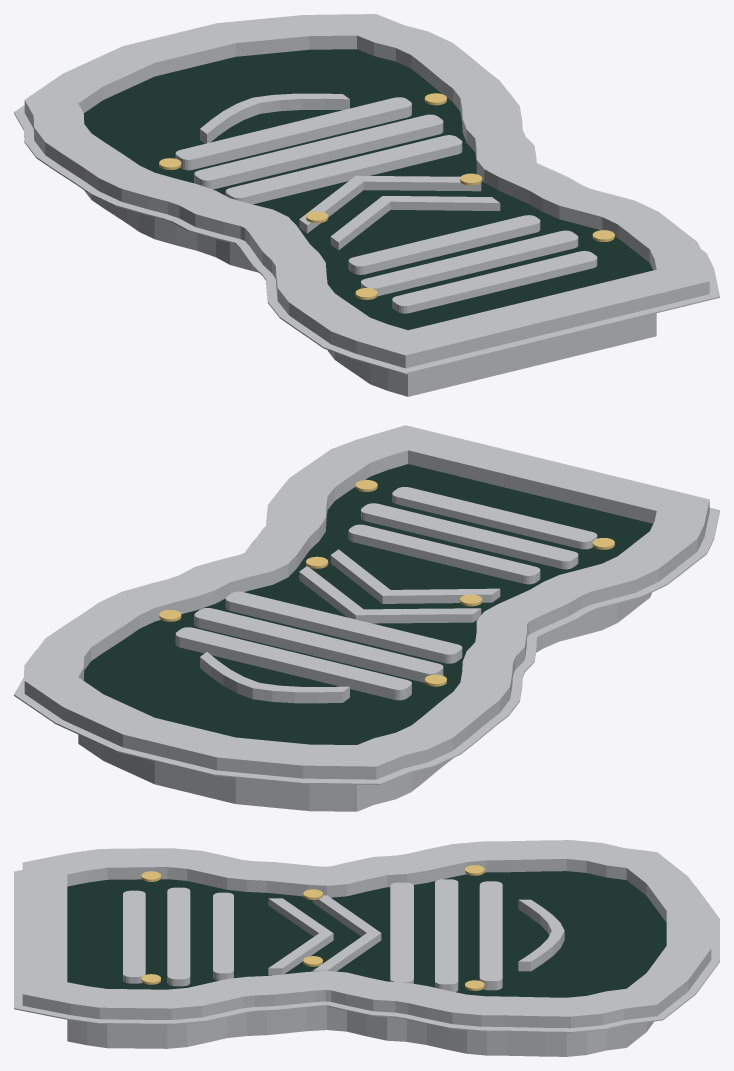
The model's file is five_zones.glb.
The picture shows the model from 3 angles, top to bottom: view 1: azimuth 30°, elevation 25°; view 2: azimuth 150°, elevation 25°; view 3: azimuth 270°, elevation 25°; orthographic projection. The views are drawn at different scales.
Parts seen in each view (by area): view 1: FZ_Body, FZ_Field, FZ_Pin0_0; view 2: FZ_Body, FZ_Field, FZ_Pin0_0; view 3: FZ_Body, FZ_Field, FZ_Pin0_0.
Part boxes in pixels (x1,y1,x2,y2): FZ_Body: [14, 14, 719, 396]; FZ_Field: [83, 49, 653, 330]; FZ_Pin0_0: [159, 93, 614, 299]; FZ_Body: [14, 425, 719, 811]; FZ_Field: [83, 464, 652, 744]; FZ_Pin0_0: [159, 480, 614, 686]; FZ_Body: [14, 840, 719, 1056]; FZ_Field: [67, 871, 666, 997]; FZ_Pin0_0: [141, 865, 484, 990].
Bounding box in the file's own units: 0.0243 × 0.00374 × 0.0394.
